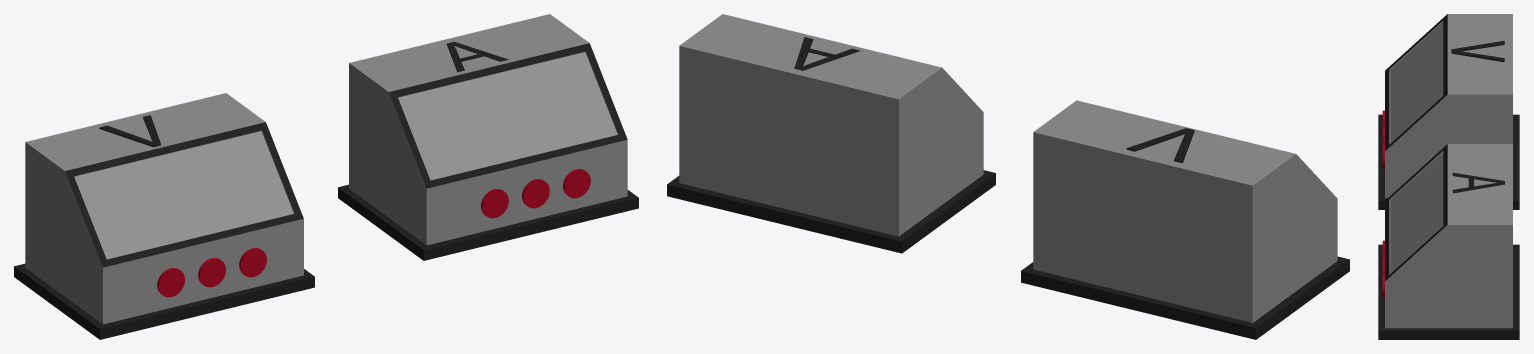
3 renders of one model, left to right at view 1: azimuth 30°, elevation 25°; view 2: azimuth 150°, elevation 25°; view 3: azimuth 270°, elevation 25°, orthographic. The views are drawn at different scales.
Parts seen in each view (by area): view 1: Box001, Box002, Object002, Object001, Cylinder004, Cylinder005, Cylinder006, Cylinder001, Cylinder002, Cylinder003, Text008, Text002; view 2: Box002, Box001, Object001, Object002, Text008, Text002; view 3: Box002, Box001, Object002, Object001, Text002, Text008.
Boxes of the visible parts, <box> form: Box001: <box>25,93,303,324</box>; Box002: <box>349,14,627,245</box>; Object002: <box>338,184,638,260</box>; Object001: <box>14,263,314,339</box>; Cylinder004: <box>481,189,508,218</box>; Cylinder005: <box>522,179,549,208</box>; Cylinder006: <box>563,169,590,198</box>; Cylinder001: <box>157,268,184,297</box>; Cylinder002: <box>198,258,225,287</box>; Cylinder003: <box>239,248,266,277</box>; Text008: <box>446,41,508,72</box>; Text002: <box>99,115,160,147</box>; Box002: <box>679,14,983,236</box>; Box001: <box>1033,100,1337,322</box>; Object001: <box>1021,256,1349,339</box>; Object002: <box>667,170,995,253</box>; Text008: <box>794,37,860,70</box>; Text002: <box>1126,128,1194,163</box>; Box002: <box>1385,144,1512,328</box>; Box001: <box>1385,14,1512,197</box>; Object002: <box>1378,244,1519,339</box>; Object001: <box>1378,114,1519,209</box>; Text002: <box>1451,40,1504,62</box>; Text008: <box>1452,172,1504,193</box>.
Bounding box in the file's own units: 162 × 39.55 × 44.71.
